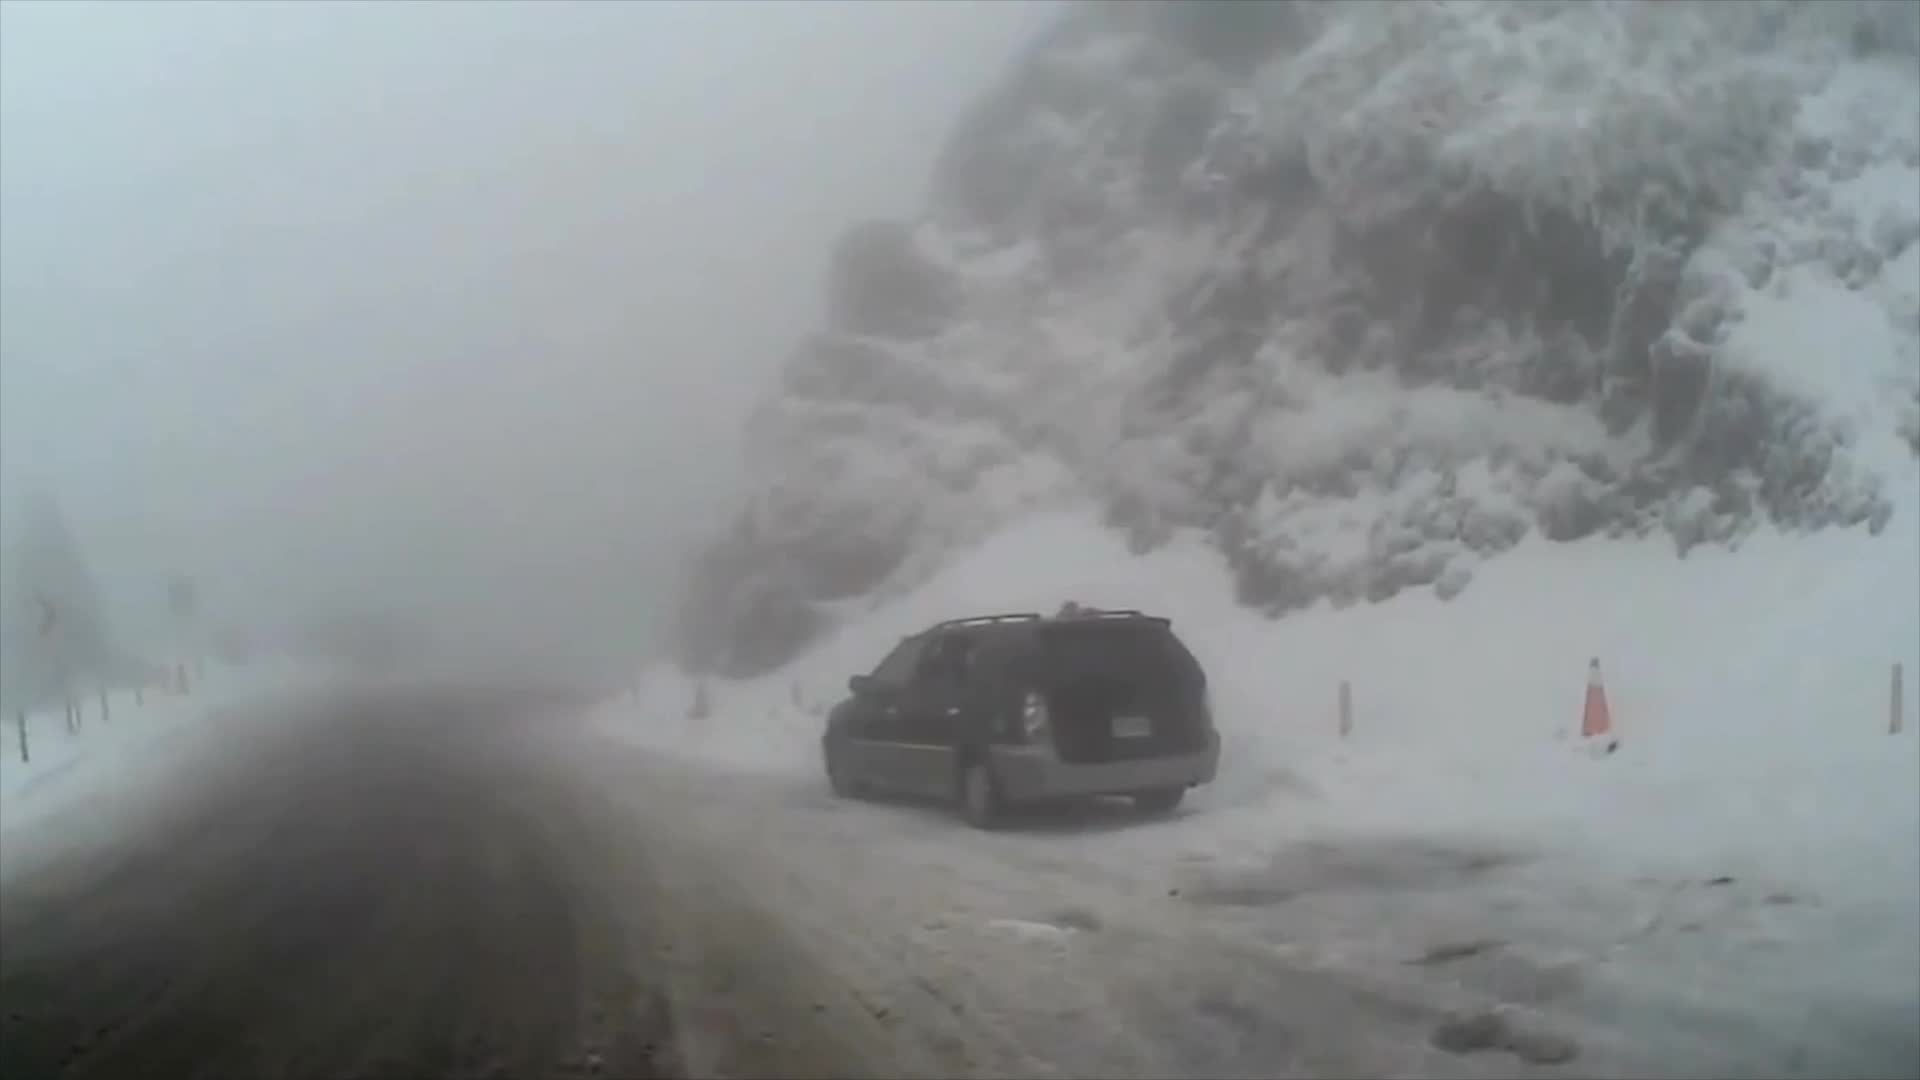vehicle: (820, 608, 1222, 829)
